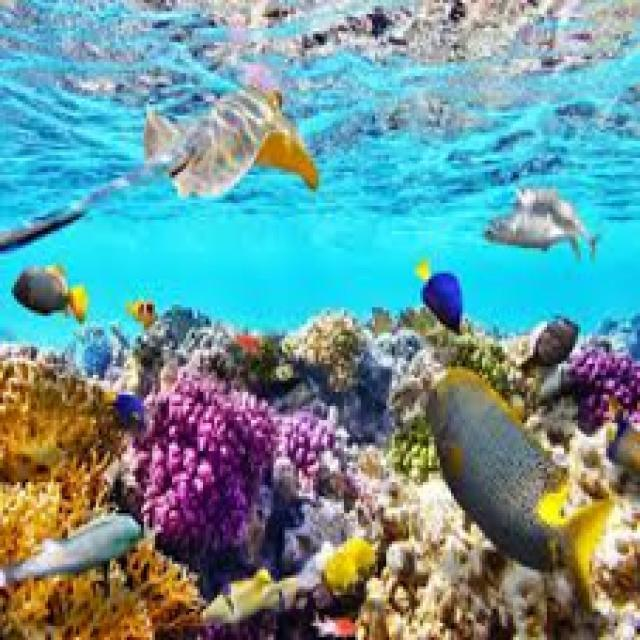Healthy: (147, 378, 274, 557), (3, 353, 108, 533), (11, 566, 196, 637), (574, 351, 640, 428), (293, 310, 359, 375), (274, 414, 340, 476), (391, 417, 441, 482), (452, 342, 521, 387)
